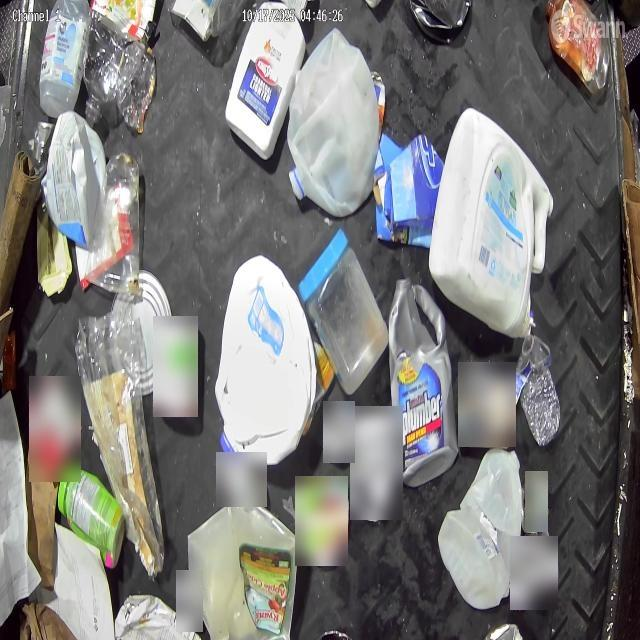milk_jug: (428, 98, 548, 340), (217, 250, 316, 462), (287, 28, 382, 219), (437, 446, 524, 608)
non_white_jug: (186, 507, 300, 640), (388, 280, 460, 484), (45, 112, 103, 246)
plastic_bottle: (514, 336, 562, 446)
